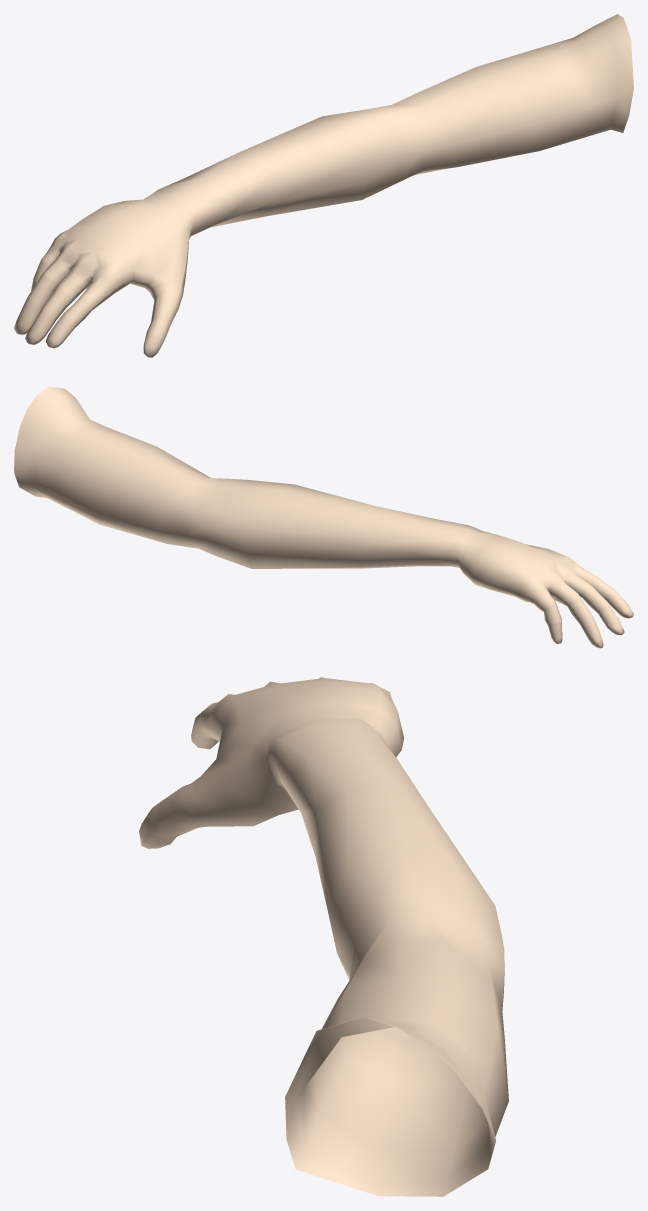
The model's file is rightHand.obj.
3 views of the same model, one above another, from view 1: azimuth 30°, elevation 25°; view 2: azimuth 150°, elevation 25°; view 3: azimuth 270°, elevation 25° (orthographic). The views are drawn at different scales.
Parts seen in each view (by area): view 1: FpsArms.2.2_FpsArms.2.001; view 2: FpsArms.2.2_FpsArms.2.001; view 3: FpsArms.2.2_FpsArms.2.001.
Part boxes in pixels (x1,y1,x2,y2): FpsArms.2.2_FpsArms.2.001: (14, 14, 633, 357); FpsArms.2.2_FpsArms.2.001: (14, 386, 633, 648); FpsArms.2.2_FpsArms.2.001: (139, 677, 508, 1196).
Bounding box in the file's own units: 0.7881 × 0.1957 × 0.2275.
